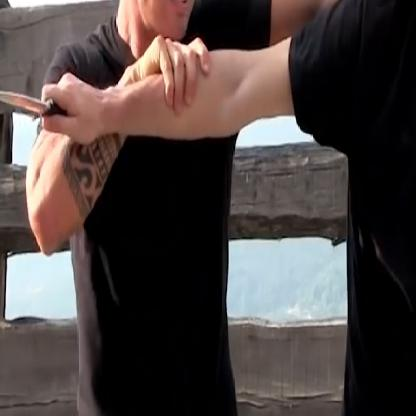knife: (0, 66, 91, 152)
